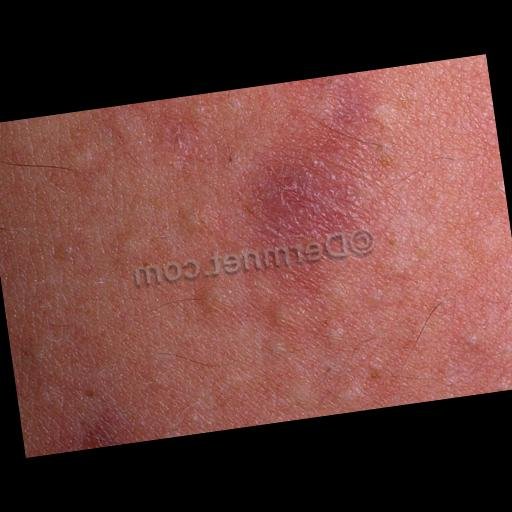Skin_Lesion: (204, 149, 386, 294), (277, 70, 395, 144), (74, 386, 138, 448), (155, 100, 213, 166), (340, 341, 402, 401), (438, 314, 500, 366)
